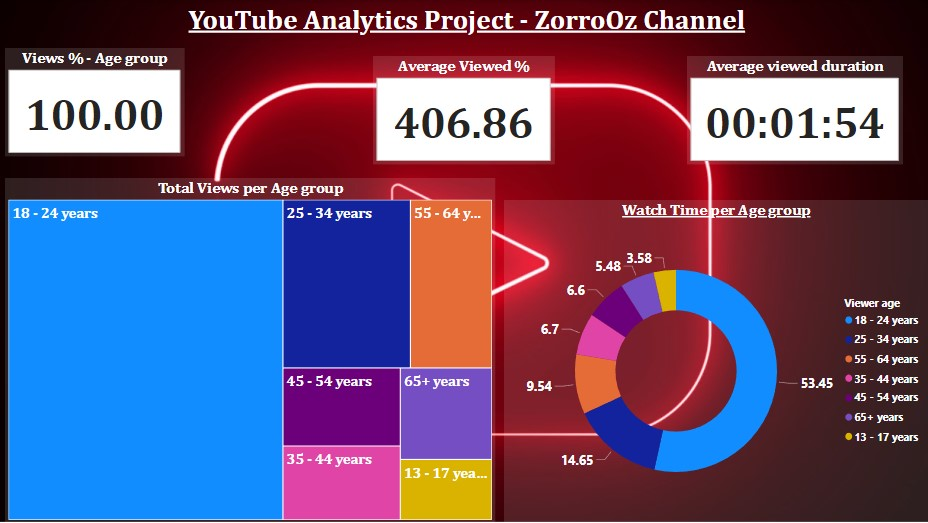

The dashboard page shown, as its layout file describes it:
{"tool":"powerbi","page":{"name":"Age Group Stats","canvas":[1280,720],"ordinal":1},"visuals":[{"type":"textbox","box":[10.1,0,1269.9,58.7],"z":0},{"type":"cardVisual","title":"Views % - Age group","fields":{"Data":["Sum(Age group list.Views (%))"]},"box":[10.1,65.4,246.6,149.3],"z":1000},{"type":"cardVisual","title":"Average Viewed %","fields":{"Data":["Sum(Age group list.Average percentage viewed (%))"]},"box":[515,77.2,250,149.3],"z":2000},{"type":"cardVisual","title":"Average viewed duration","fields":{"Data":["Min(Age group list.Average view duration)"]},"box":[947.8,77.2,296.9,149.3],"z":3000},{"type":"treemap","title":"Total Views per Age group","fields":{"Group":["Age group list.Viewer age"],"Values":["Sum(Age group list.Views (%))"]},"box":[10.1,244.9,674.4,474.8],"z":4000},{"type":"donutChart","title":"Watch Time per Age group","fields":{"Category":["Age group list.Viewer age"],"Y":["Sum(Age group list.Watch time (hours) (%))"]},"box":[696.2,275.1,583.8,444.6],"z":5000}]}

Visuals, with their boxes in screenshot pixels (x1, y1, x2, y2), scaled from the page's 1280x720 canvas onto the 928x523 screenshot:
textbox: {"left": 7, "top": 0, "right": 927, "bottom": 43}
"Views % - Age group" cardVisual: {"left": 7, "top": 48, "right": 186, "bottom": 156}
"Average Viewed %" cardVisual: {"left": 373, "top": 56, "right": 555, "bottom": 165}
"Average viewed duration" cardVisual: {"left": 687, "top": 56, "right": 902, "bottom": 165}
"Total Views per Age group" treemap: {"left": 7, "top": 178, "right": 496, "bottom": 522}
"Watch Time per Age group" donutChart: {"left": 505, "top": 200, "right": 927, "bottom": 522}
